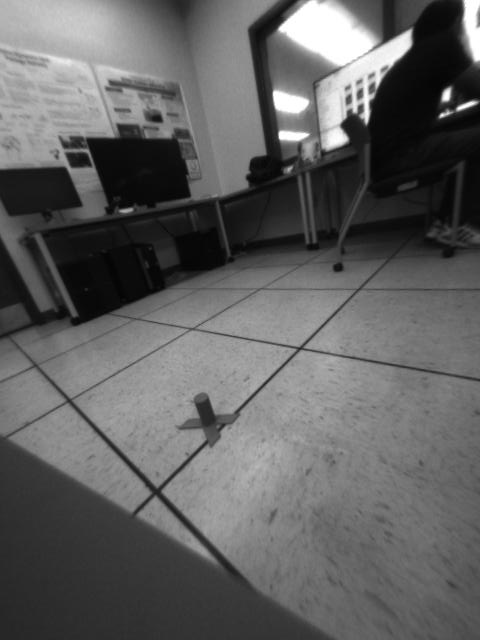X: (174, 388, 240, 447)
